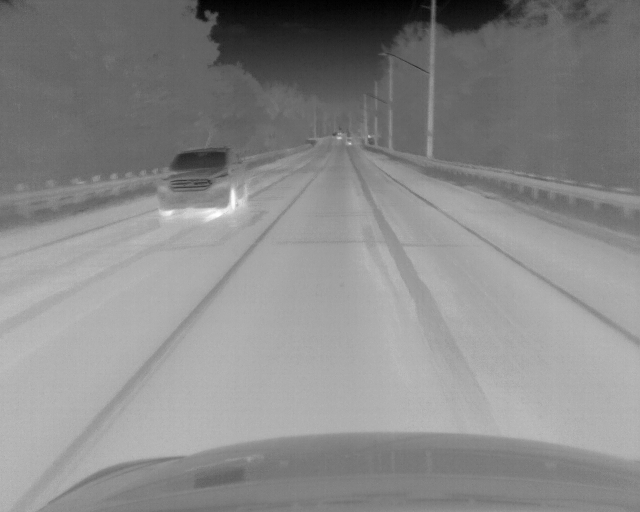car: (154, 146, 247, 220), (345, 137, 353, 145), (335, 132, 343, 140)
